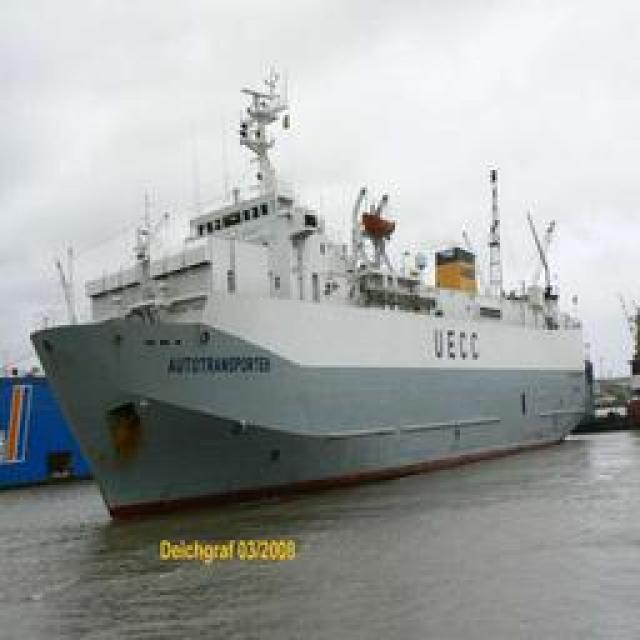ship2: (28, 90, 595, 520)
